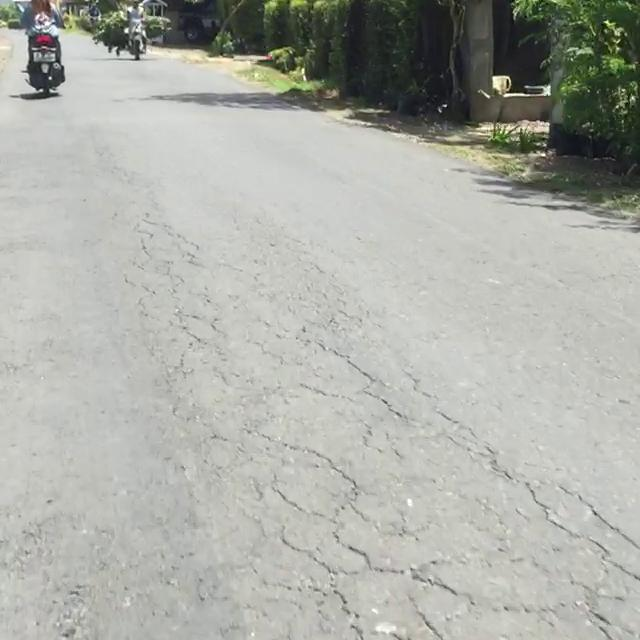retak_kulit_buaya: (222, 424, 640, 640), (123, 181, 350, 423)
